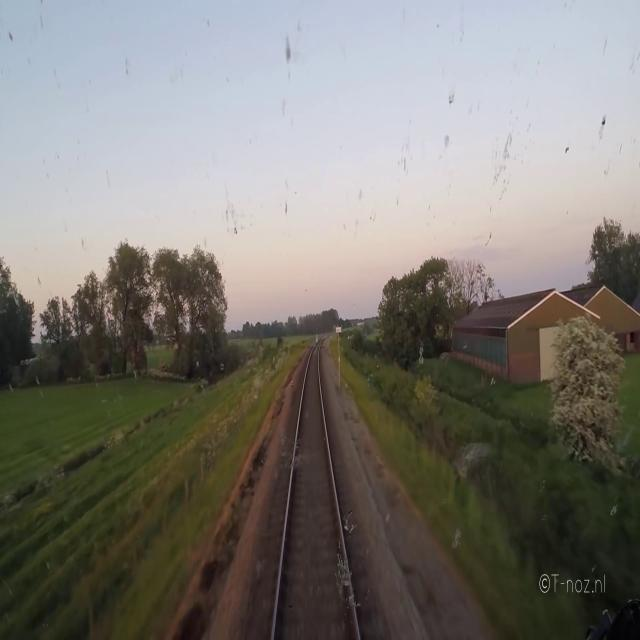rail-track: (275, 343, 355, 639)
